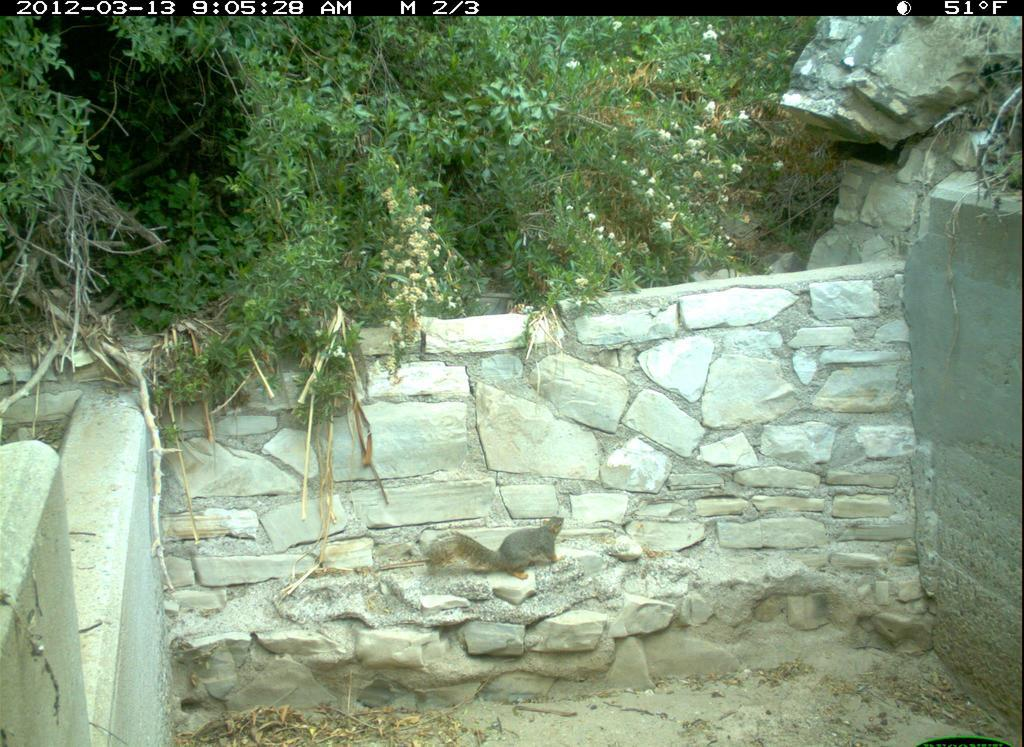squirrel: (424, 515, 568, 583)
